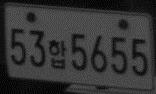3: (28, 28, 46, 67)
5: (69, 32, 88, 70), (130, 37, 148, 77), (110, 35, 128, 74), (9, 26, 26, 65)
6: (89, 34, 107, 73)
합: (48, 38, 67, 69)
